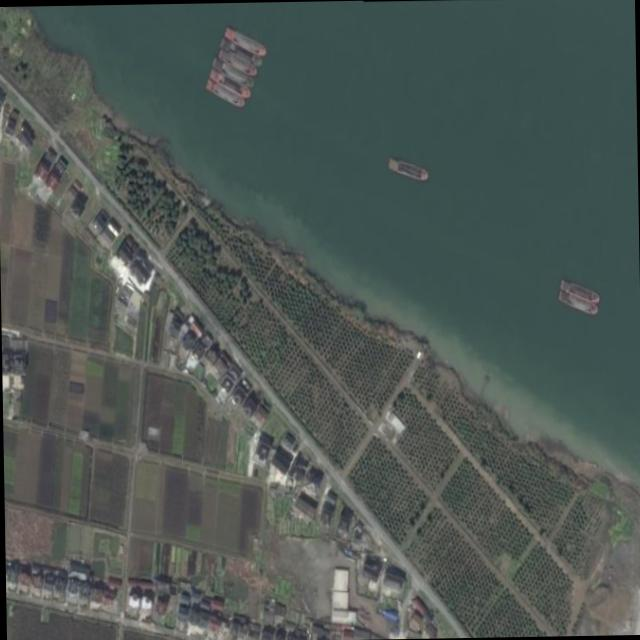ship: (210, 55, 252, 88), (208, 67, 249, 99), (222, 26, 265, 56), (215, 46, 256, 76), (219, 36, 260, 66), (557, 288, 598, 315), (204, 78, 243, 106), (558, 278, 599, 303), (386, 158, 426, 180)
